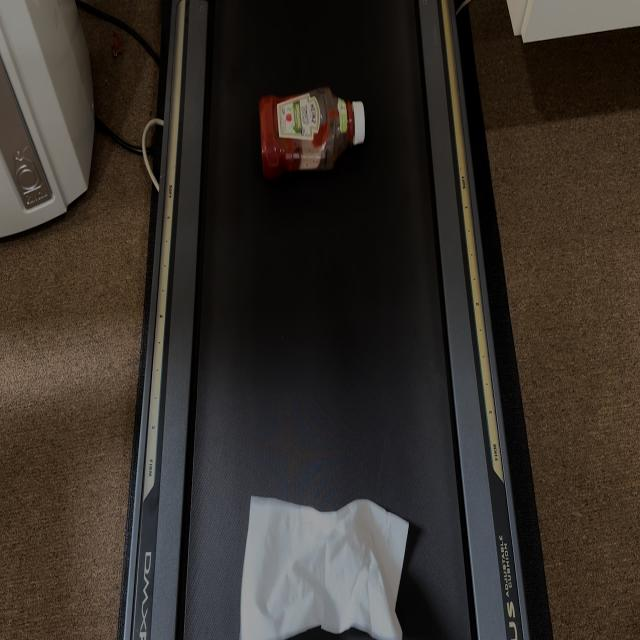Recycle: (243, 489, 418, 640)
Trash: (255, 88, 378, 170)
